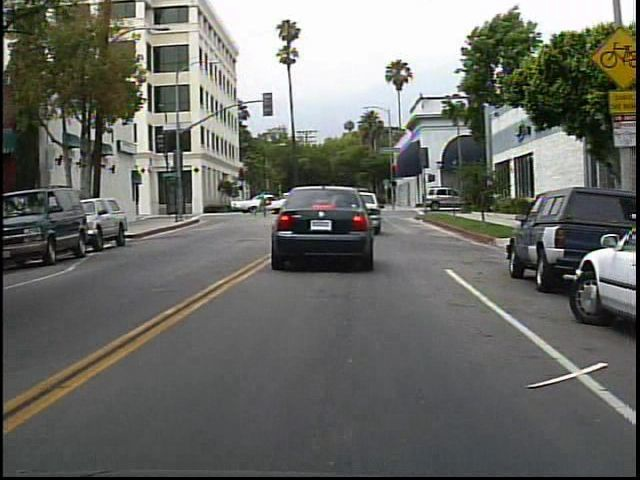person: (251, 190, 271, 222)
